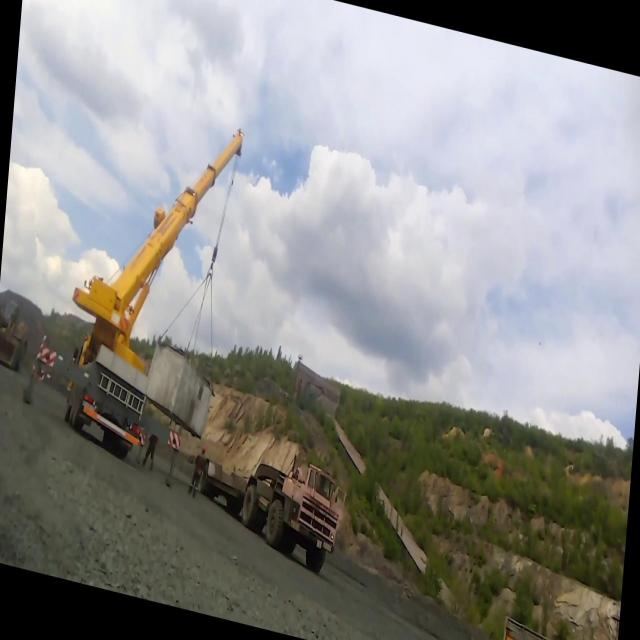crane: (17, 79, 244, 499)
